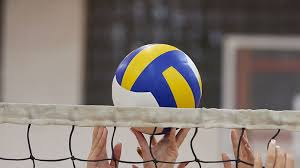ball: (111, 42, 203, 136)
